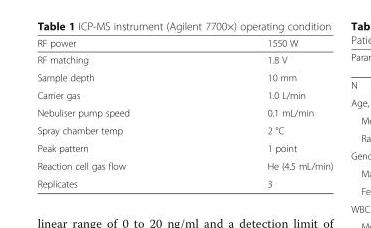table: (36, 37, 332, 188)
table column: (36, 37, 197, 188), (197, 37, 332, 188)
table column header: (36, 37, 332, 51)
table row: (36, 85, 332, 103), (36, 103, 332, 121), (36, 121, 332, 139), (36, 156, 332, 174), (36, 51, 332, 68), (36, 68, 332, 85), (36, 139, 332, 156), (36, 37, 332, 51), (36, 174, 332, 188)
